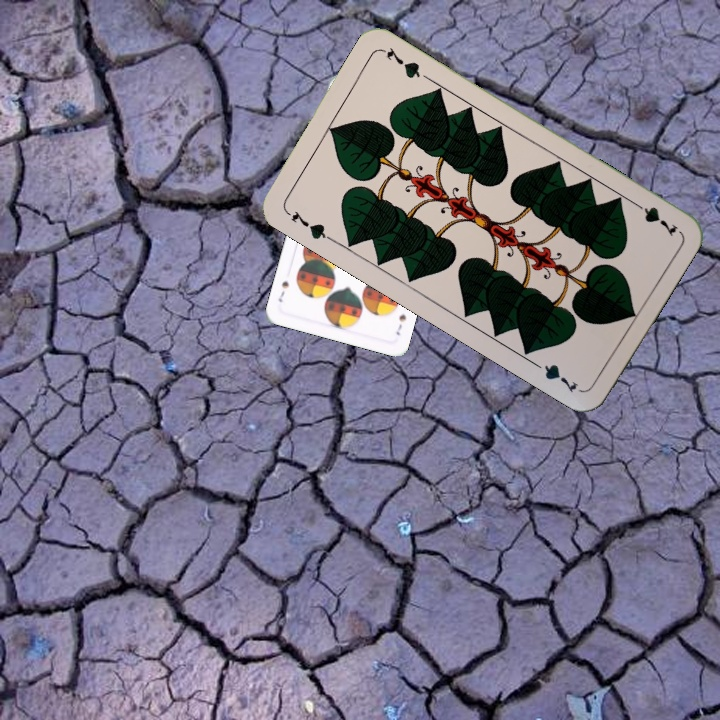G7: (627, 196, 680, 239), (281, 206, 335, 244)
S7: (392, 310, 409, 338)
